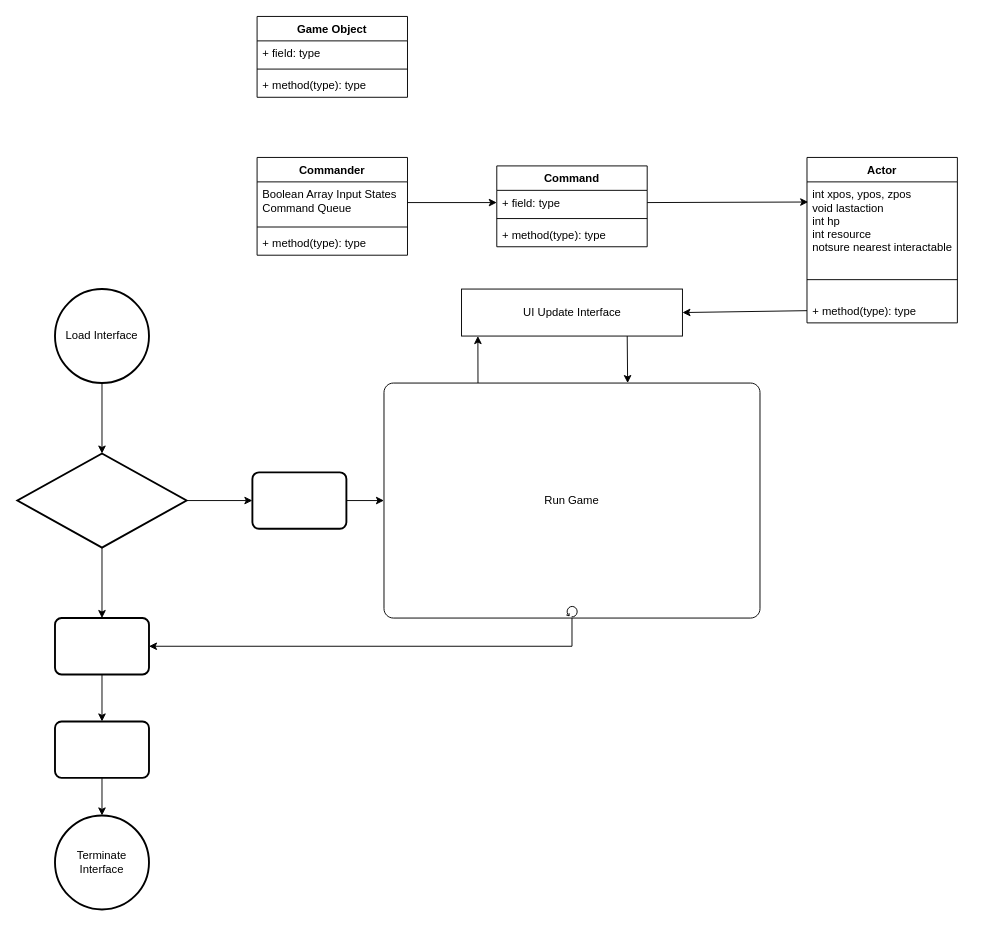
This 1003x927 diagram has some shape labels left out. The shapes that lost their labels are listed below. From the top down, each one's centre as x and y in pixels, then its label:
At point (101, 500): "Idle For Input".
At point (299, 500): "Launch Game".
At point (101, 646): "Shutdown".
At point (101, 749): "Destruct and Cleanup".
